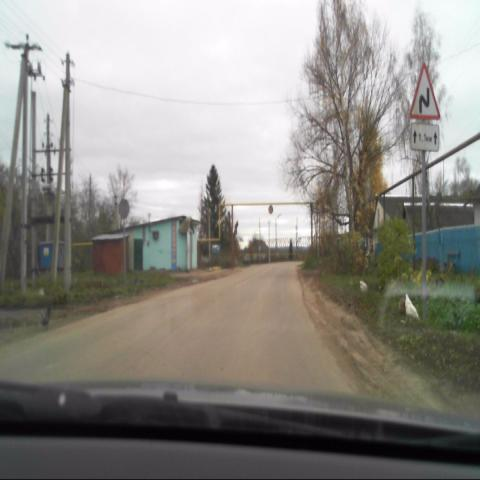1_12: (410, 63, 440, 119)
